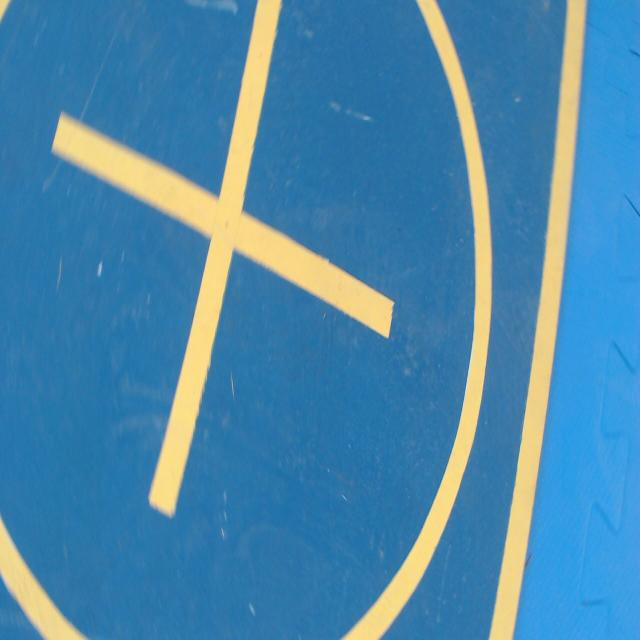base_pouso: (0, 0, 588, 639)
